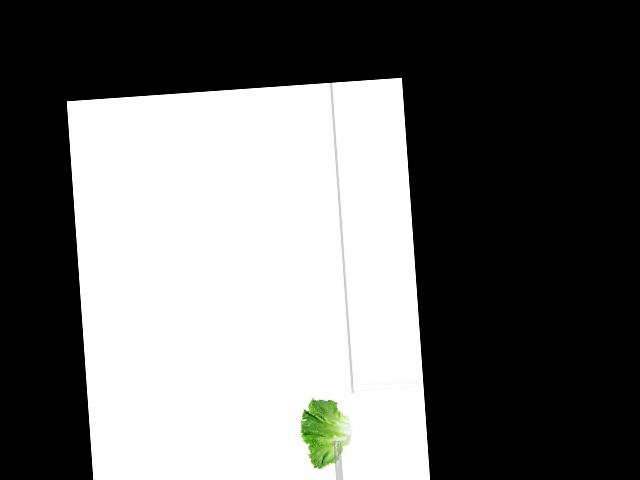lettuce: (299, 396, 354, 467)
